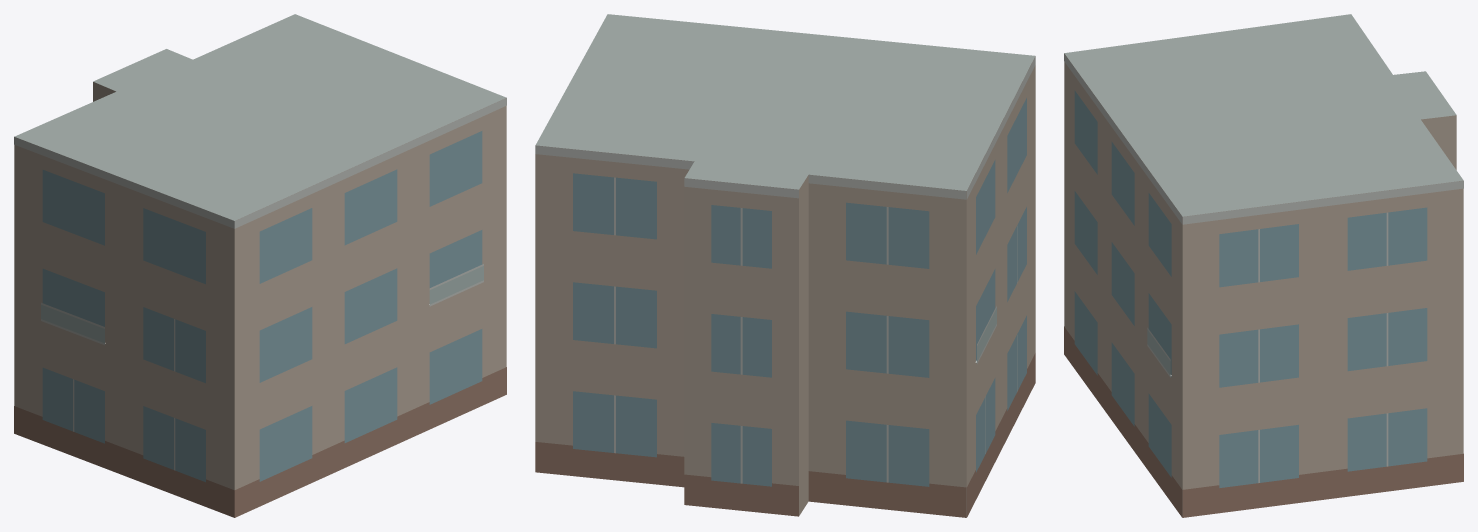
File: survey-upis-33015747.glb
3 renders of one model, left to right at view 1: azimuth 30°, elevation 25°; view 2: azimuth 150°, elevation 25°; view 3: azimuth 270°, elevation 25°, orthographic. The views are drawn at different scales.
Visible parts, largest first — view 1: survey-upis-33015747.tmp; view 2: survey-upis-33015747.tmp; view 3: survey-upis-33015747.tmp.
Part boxes in pixels (left/top/right/bottom): survey-upis-33015747.tmp: left=14, top=14, right=506, bottom=517; survey-upis-33015747.tmp: left=535, top=14, right=1035, bottom=517; survey-upis-33015747.tmp: left=1064, top=14, right=1463, bottom=517.
Bounding box in the file's own units: 13.21 × 9.15 × 11.01.
